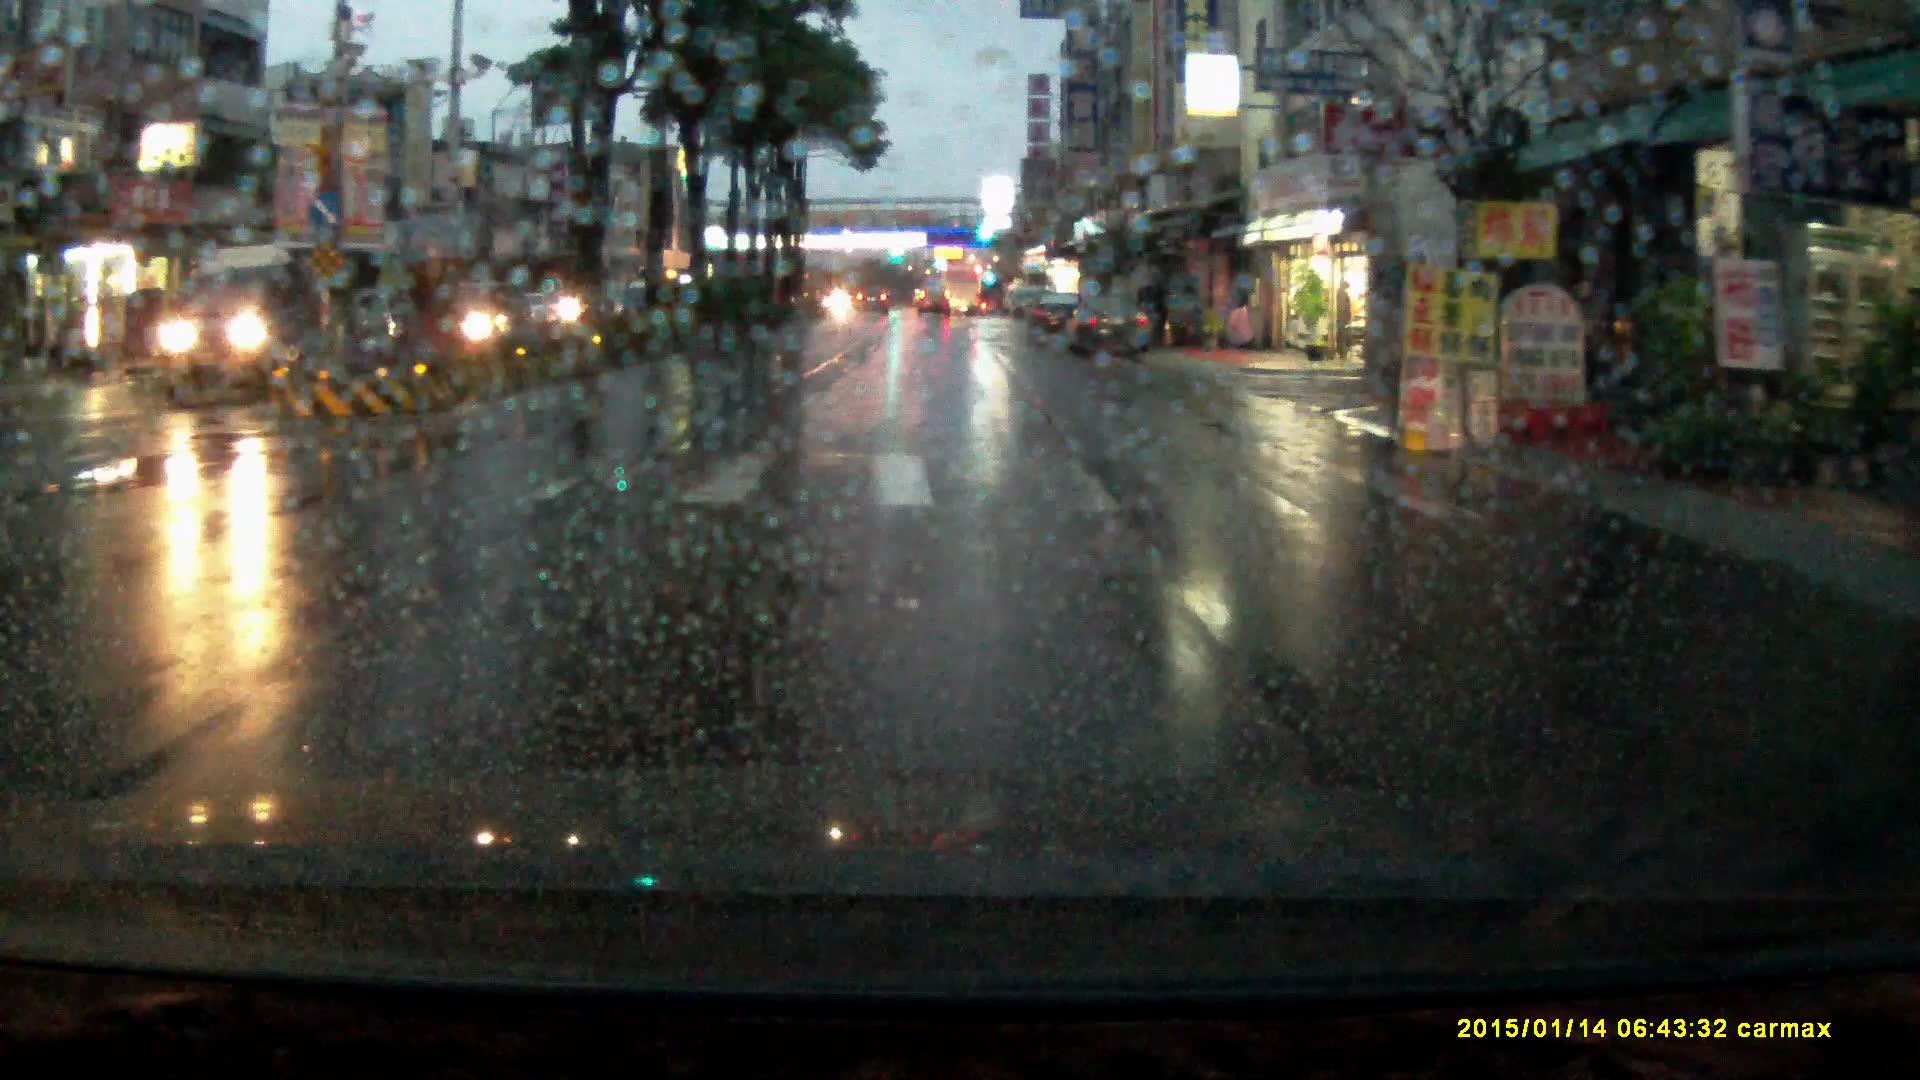vehicle: (153, 237, 402, 409), (402, 280, 535, 353), (1063, 290, 1155, 357), (1026, 287, 1083, 340), (938, 266, 982, 322), (920, 281, 953, 320), (855, 285, 891, 316)
